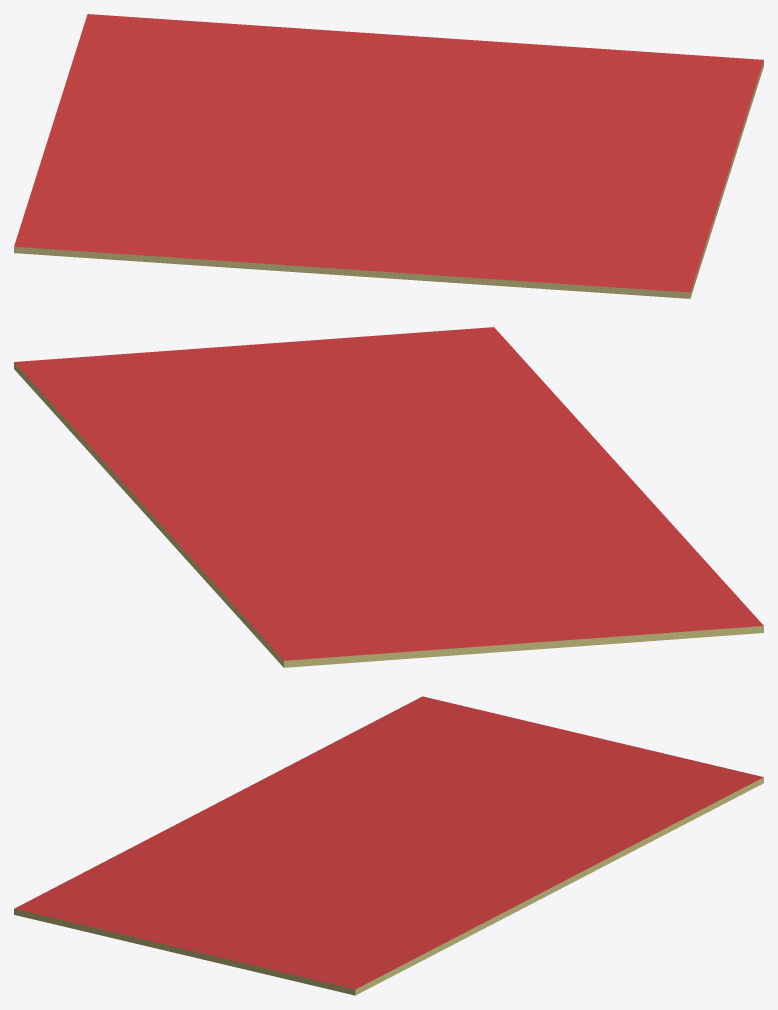
3 views of the same model, one above another, from view 1: azimuth 30°, elevation 25°; view 2: azimuth 150°, elevation 25°; view 3: azimuth 270°, elevation 25° (orthographic). The views are drawn at different scales.
Bounding box in the file's own units: 11.68 × 11.23 × 0.702.
